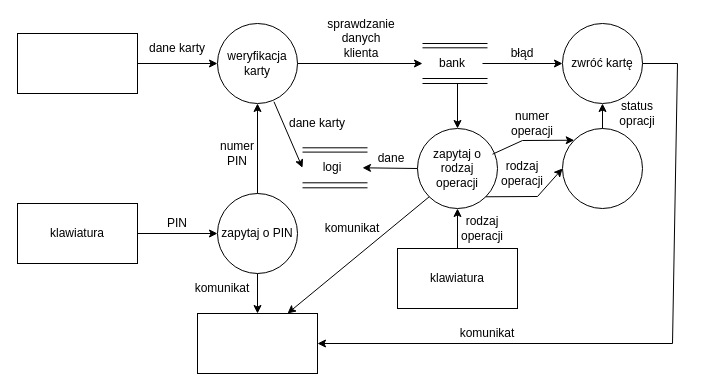
This 703x391 diagram has some shape labels left out. Each missing label, with the centre of its shape:
"czytnik kart" belongs at (77,63).
"ekran" belongs at (257,343).
"wykonaj operacje" belongs at (602,168).
